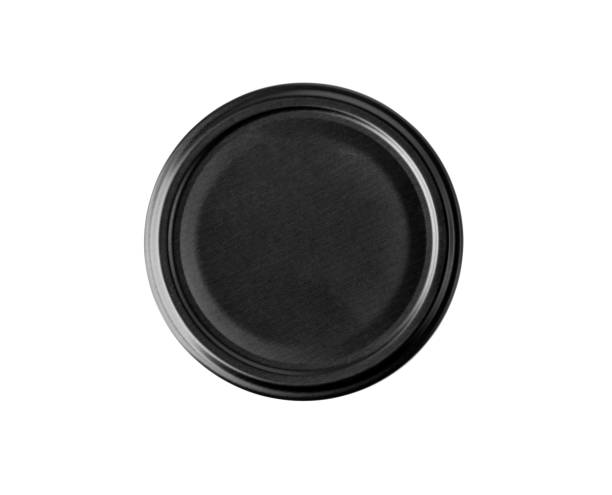daire: (142, 82, 466, 404)
